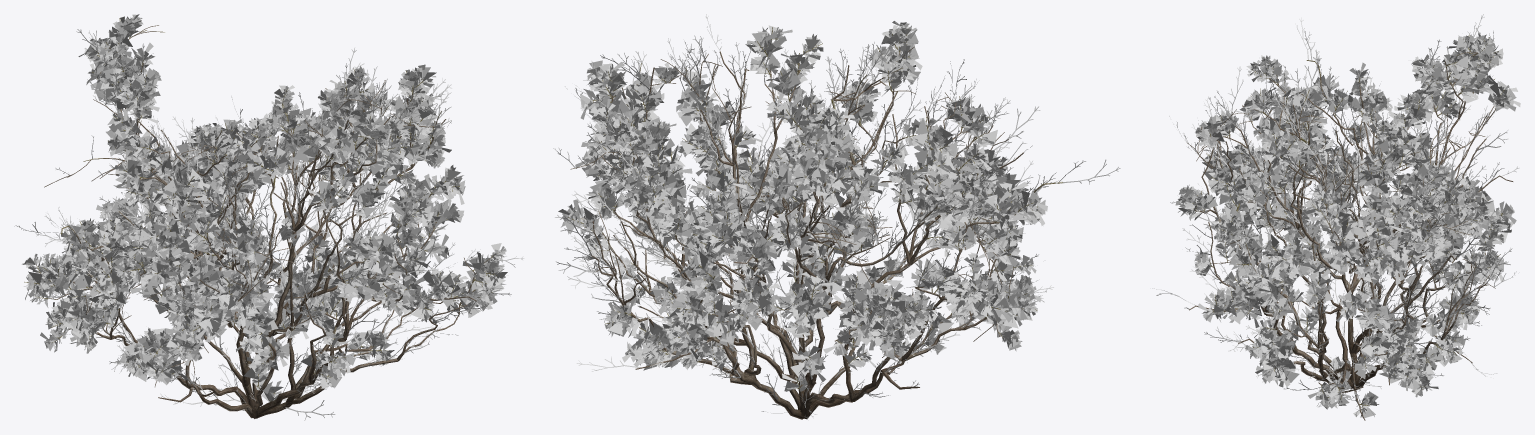
The model's file is bushes.gltf.
The picture shows the model from 3 angles, left to right: view 1: azimuth 30°, elevation 25°; view 2: azimuth 150°, elevation 25°; view 3: azimuth 270°, elevation 25°; orthographic projection. The views are drawn at different scales.
Visible parts, largest first — view 1: searsia_burchellii_medium_LOD0; view 2: searsia_burchellii_medium_LOD0; view 3: searsia_burchellii_medium_LOD0.
Boxes of the visible parts, box(x1,y1,x2,y2) form: searsia_burchellii_medium_LOD0: box(14, 14, 524, 420); searsia_burchellii_medium_LOD0: box(553, 14, 1120, 419); searsia_burchellii_medium_LOD0: box(1152, 14, 1520, 420).
Bounding box in the file's own units: 3.58 × 2.59 × 2.61.
